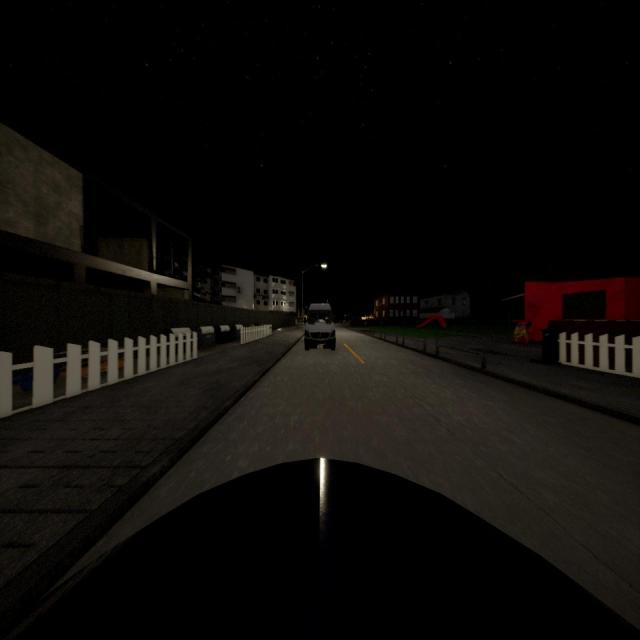Vehicle: (1, 454, 640, 639), (304, 303, 336, 350)
